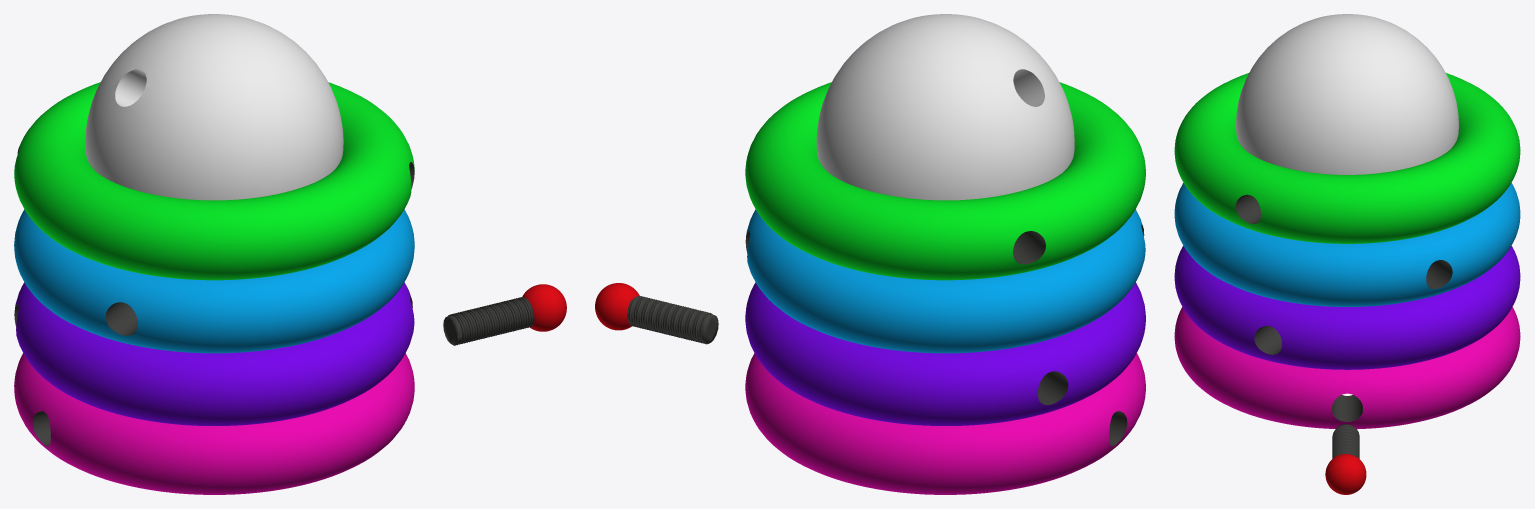
The model's file is PuzzleUnity.fbx.
3 views of the same model, side by side, from view 1: azimuth 30°, elevation 25°; view 2: azimuth 150°, elevation 25°; view 3: azimuth 270°, elevation 25° (orthographic). The views are drawn at different scales.
Parts seen in each view (by area): view 1: Torus.004, Sphere, Torus.003, Torus.002, Torus.001, Plane; view 2: Torus.004, Sphere, Torus.003, Torus.002, Torus.001, Plane; view 3: Torus.004, Sphere, Torus.003, Torus.002, Torus.001, Plane.
Part boxes in pixels (bbox=[...]): Torus.004: bbox=[14, 82, 414, 280]; Sphere: bbox=[85, 14, 343, 200]; Torus.003: bbox=[14, 209, 414, 353]; Torus.002: bbox=[14, 282, 414, 425]; Torus.001: bbox=[14, 353, 414, 494]; Plane: bbox=[443, 284, 566, 345]; Torus.004: bbox=[745, 82, 1145, 280]; Sphere: bbox=[816, 14, 1074, 200]; Torus.003: bbox=[745, 209, 1145, 353]; Torus.002: bbox=[745, 282, 1145, 425]; Torus.001: bbox=[745, 353, 1145, 494]; Plane: bbox=[595, 283, 718, 344]; Torus.004: bbox=[1174, 73, 1520, 243]; Sphere: bbox=[1236, 14, 1458, 174]; Torus.003: bbox=[1174, 183, 1520, 306]; Torus.002: bbox=[1174, 246, 1520, 369]; Torus.001: bbox=[1174, 307, 1520, 429]; Plane: bbox=[1325, 424, 1366, 494].
Size of the model in its own units: 376 by 274 by 250.
